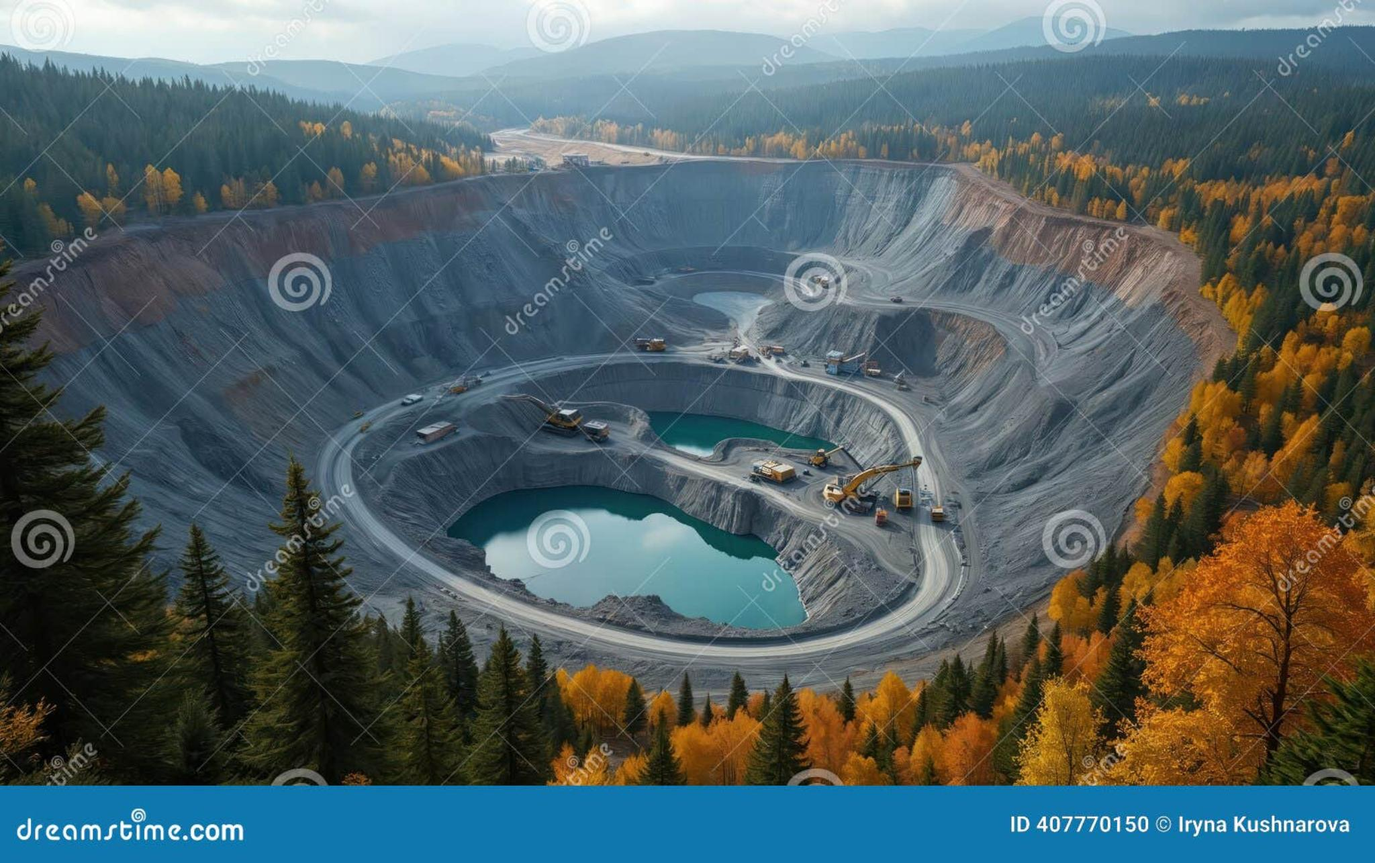benches: (339, 493, 965, 666), (612, 428, 793, 505), (795, 506, 908, 577), (323, 433, 351, 489)
excavator: (824, 454, 937, 509), (495, 381, 591, 434), (806, 439, 849, 472)
truck: (628, 332, 670, 354), (895, 484, 916, 512), (934, 501, 943, 522)
wall: (758, 303, 1195, 591)
